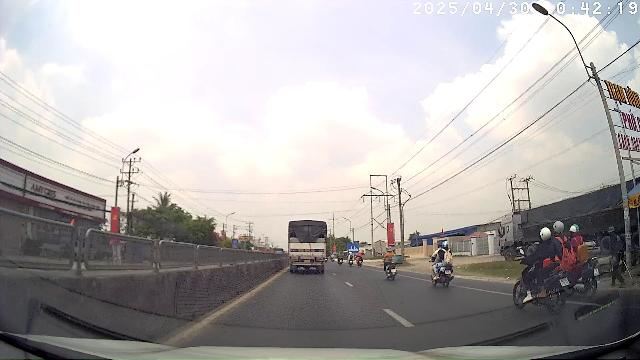420-bat-dau-khu-dong-dan-cu: (348, 244, 358, 252)
